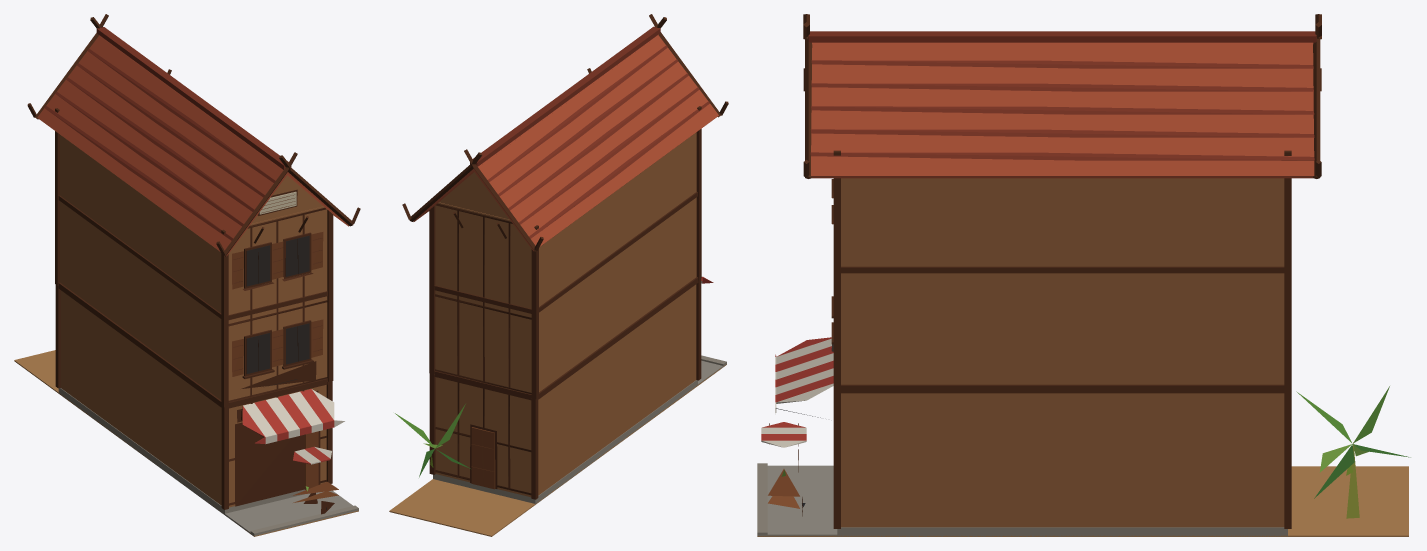
The model's file is bay2_mid.glb.
The picture shows the model from 3 angles, left to right: view 1: azimuth 30°, elevation 25°; view 2: azimuth 150°, elevation 25°; view 3: azimuth 270°, elevation 25°; orthographic projection. The views are drawn at different scales.
Visible parts, largest first — view 1: body, windows; view 2: body; view 3: body.
Part boxes in pixels (bbox=[...]): body: bbox=[14, 14, 360, 536]; windows: bbox=[246, 235, 309, 373]; body: bbox=[389, 14, 728, 536]; body: bbox=[757, 14, 1410, 536].
Size of the model in its own units: 5.53 by 13.06 by 15.99.
